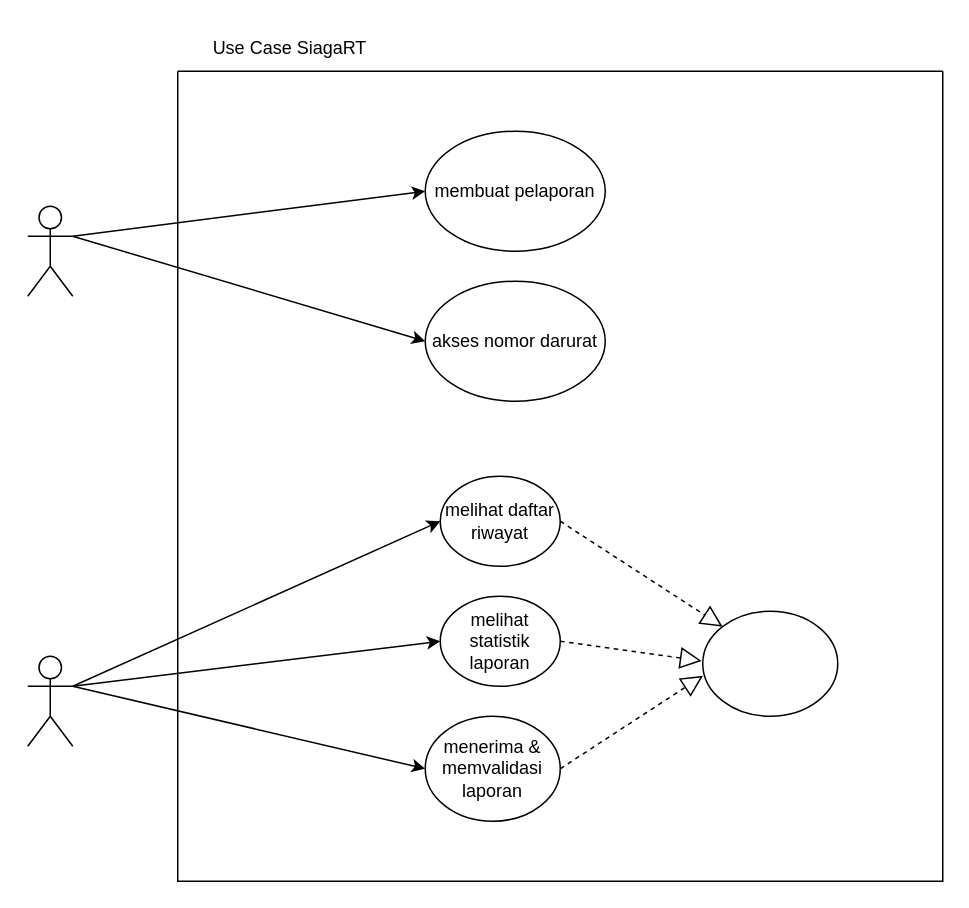
Image size: 969x908. Some labels were removed from this diagram. The centre of each missing label's shape, as x and y in pixels:
"admin" goes at pixel 49 700.
"login" goes at pixel 769 663.
"warga" goes at pixel 49 250.
